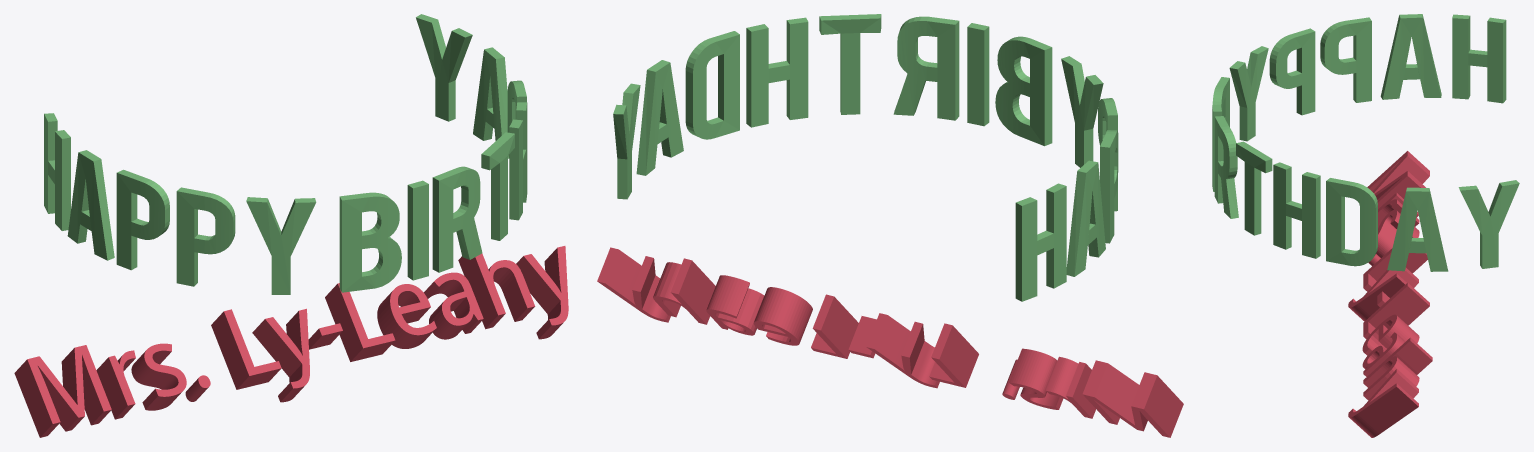
The model's file is Ly-Leahy.glb.
3 views of the same model, side by side, from view 1: azimuth 30°, elevation 25°; view 2: azimuth 150°, elevation 25°; view 3: azimuth 270°, elevation 25° (orthographic). The views are drawn at different scales.
Visible parts, largest first — view 1: Mesh_Mesh_head_geo.001_lambert2SG.001; view 2: Mesh_Mesh_head_geo.001_lambert2SG.001; view 3: Mesh_Mesh_head_geo.001_lambert2SG.001.
Boxes of the visible parts, x1,y1,x2,y2 form: Mesh_Mesh_head_geo.001_lambert2SG.001: (14, 14, 568, 437); Mesh_Mesh_head_geo.001_lambert2SG.001: (597, 14, 1183, 437); Mesh_Mesh_head_geo.001_lambert2SG.001: (1212, 14, 1519, 437).
Size of the model in its own units: 169 by 82.36 by 97.19.
